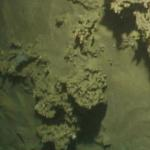alive: (5, 4, 147, 147)
